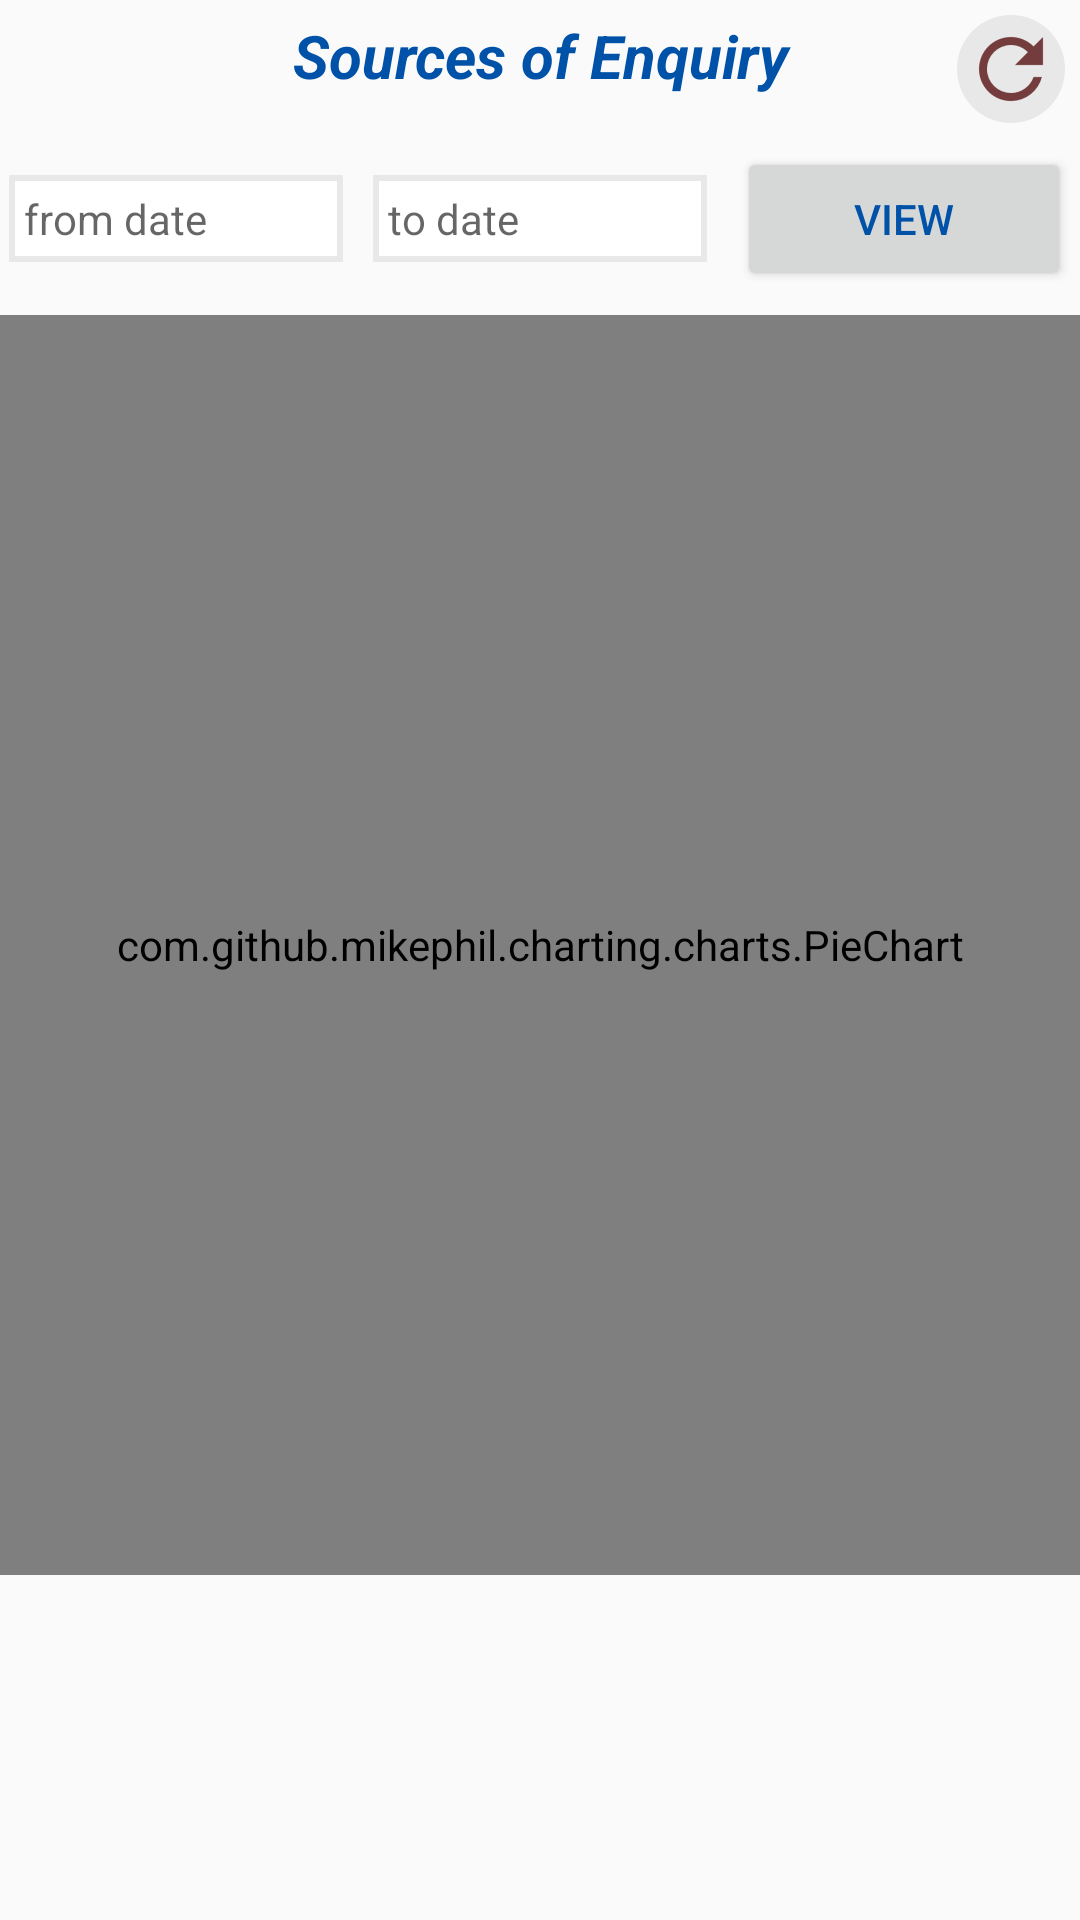

Where icons sit on this 1080x1920 app screen, as (x1, y1, x2, y2):
refresh: (957, 15, 1065, 123)
